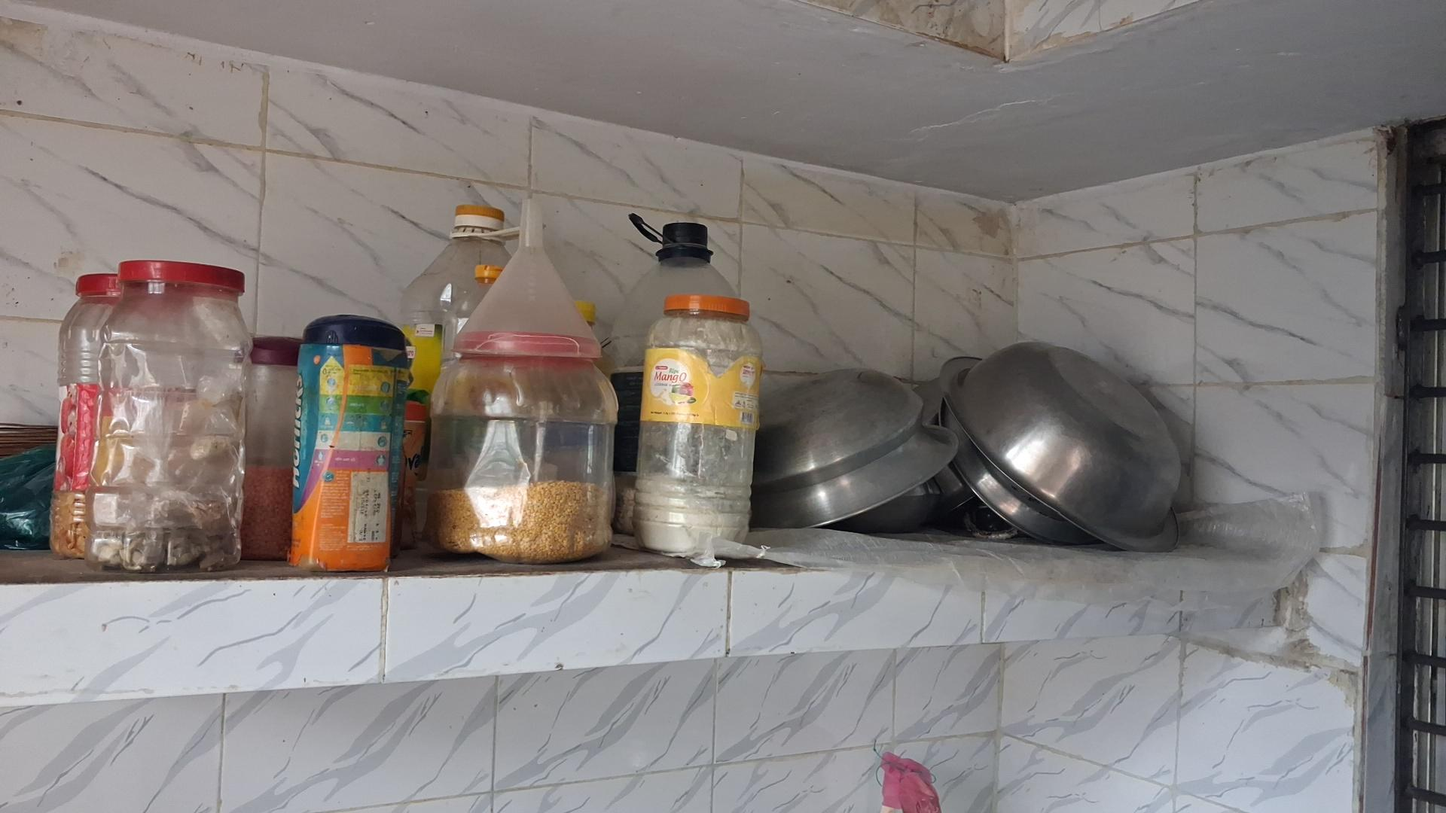Bottle: (619, 219, 755, 571), (393, 207, 516, 396)
Jar: (423, 195, 619, 563), (83, 260, 253, 573), (635, 292, 765, 555), (289, 314, 414, 573), (50, 271, 120, 561), (238, 335, 302, 562)
Pot: (937, 339, 1184, 553), (772, 371, 942, 546)
